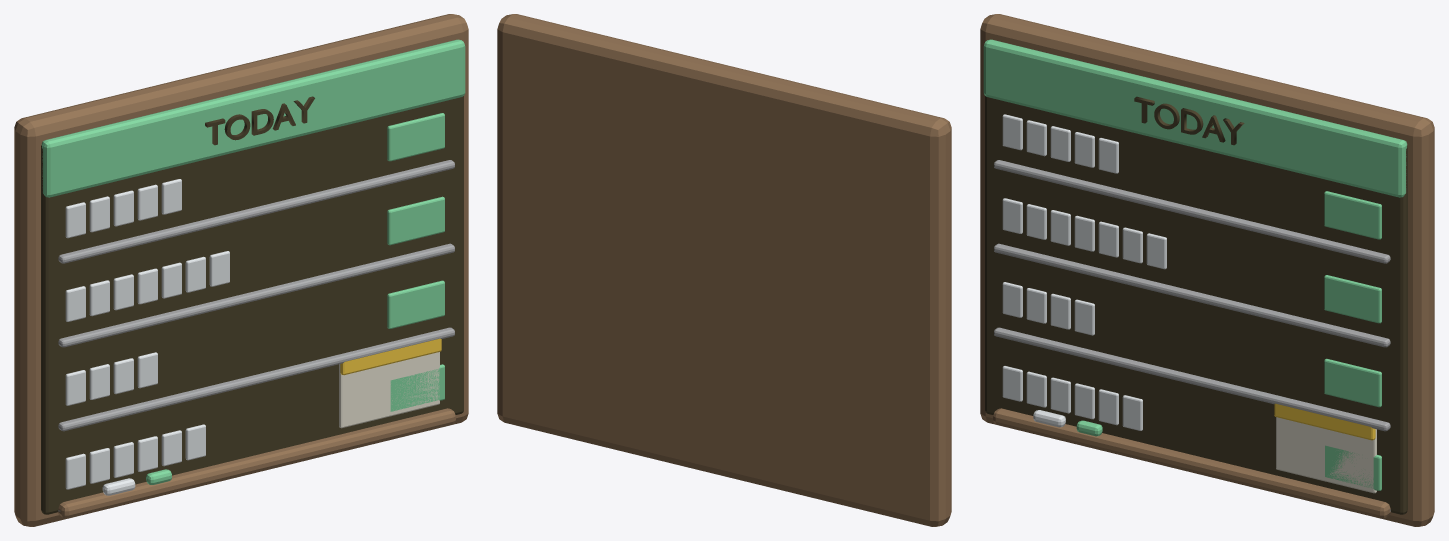
The model's file is decor_svc_menu_board.glb.
3 views of the same model, side by side, from view 1: azimuth 30°, elevation 25°; view 2: azimuth 150°, elevation 25°; view 3: azimuth 330°, elevation 25° (orthographic).
Parts seen in each view (by area): view 1: DEC_SvcMenuBoard__Board_Face, DEC_SvcMenuBoard__Board_Back, DEC_SvcMenuBoard__Board_Header, DEC_SvcMenuBoard__Chalk_Rail, DEC_SvcMenuBoard__Special_Card, DEC_SvcMenuBoard__Slot_Rail_2, DEC_SvcMenuBoard__Slot_Rail_1, DEC_SvcMenuBoard__Slot_Rail_3, DEC_SvcMenuBoard__Price_Tag_3, DEC_SvcMenuBoard__Price_Tag_2, DEC_SvcMenuBoard__Price_Tag_1, DEC_SvcMenuBoard__Price_Tag_4 (+24 smaller); view 2: DEC_SvcMenuBoard__Board_Back; view 3: DEC_SvcMenuBoard__Board_Face, DEC_SvcMenuBoard__Board_Back, DEC_SvcMenuBoard__Board_Header, DEC_SvcMenuBoard__Chalk_Rail, DEC_SvcMenuBoard__Special_Card, DEC_SvcMenuBoard__Slot_Rail_2, DEC_SvcMenuBoard__Slot_Rail_1, DEC_SvcMenuBoard__Slot_Rail_3, DEC_SvcMenuBoard__Price_Tag_3, DEC_SvcMenuBoard__Price_Tag_1, DEC_SvcMenuBoard__Price_Tag_2, DEC_SvcMenuBoard__Board_Title (+24 smaller).
Boxes of the visible parts, x1,y1,x2,y2 form: DEC_SvcMenuBoard__Board_Face: (41,96,463,514); DEC_SvcMenuBoard__Board_Back: (14,14,468,526); DEC_SvcMenuBoard__Board_Header: (41,39,465,197); DEC_SvcMenuBoard__Chalk_Rail: (57,408,455,518); DEC_SvcMenuBoard__Special_Card: (339,352,439,428); DEC_SvcMenuBoard__Slot_Rail_2: (58,243,454,347); DEC_SvcMenuBoard__Slot_Rail_1: (58,160,454,263); DEC_SvcMenuBoard__Slot_Rail_3: (58,327,454,431); DEC_SvcMenuBoard__Price_Tag_3: (387,280,444,328); DEC_SvcMenuBoard__Price_Tag_2: (387,196,444,245); DEC_SvcMenuBoard__Price_Tag_1: (387,113,444,161); DEC_SvcMenuBoard__Price_Tag_4: (390,364,444,411); DEC_SvcMenuBoard__Board_Back: (497,14,951,526); DEC_SvcMenuBoard__Board_Face: (985,96,1407,514); DEC_SvcMenuBoard__Board_Back: (980,14,1434,526); DEC_SvcMenuBoard__Board_Header: (983,39,1407,197); DEC_SvcMenuBoard__Chalk_Rail: (993,408,1391,518); DEC_SvcMenuBoard__Special_Card: (1276,417,1376,493); DEC_SvcMenuBoard__Slot_Rail_2: (994,243,1390,347); DEC_SvcMenuBoard__Slot_Rail_1: (994,160,1390,263); DEC_SvcMenuBoard__Slot_Rail_3: (994,327,1390,431); DEC_SvcMenuBoard__Price_Tag_3: (1324,358,1381,407); DEC_SvcMenuBoard__Price_Tag_1: (1324,191,1381,239); DEC_SvcMenuBoard__Price_Tag_2: (1324,275,1381,323); DEC_SvcMenuBoard__Board_Title: (1134,96,1244,145).
Size of the model in its own units: 1.34 by 1.16 by 0.1495.
7 materials, 1 textured.
